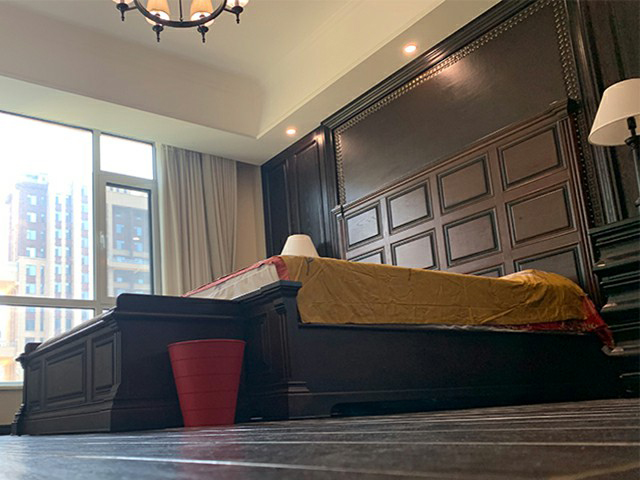bed: (182, 254, 616, 422)
cabinet: (587, 213, 640, 396)
stool: (10, 292, 256, 437)
trashcan: (167, 337, 244, 427)
